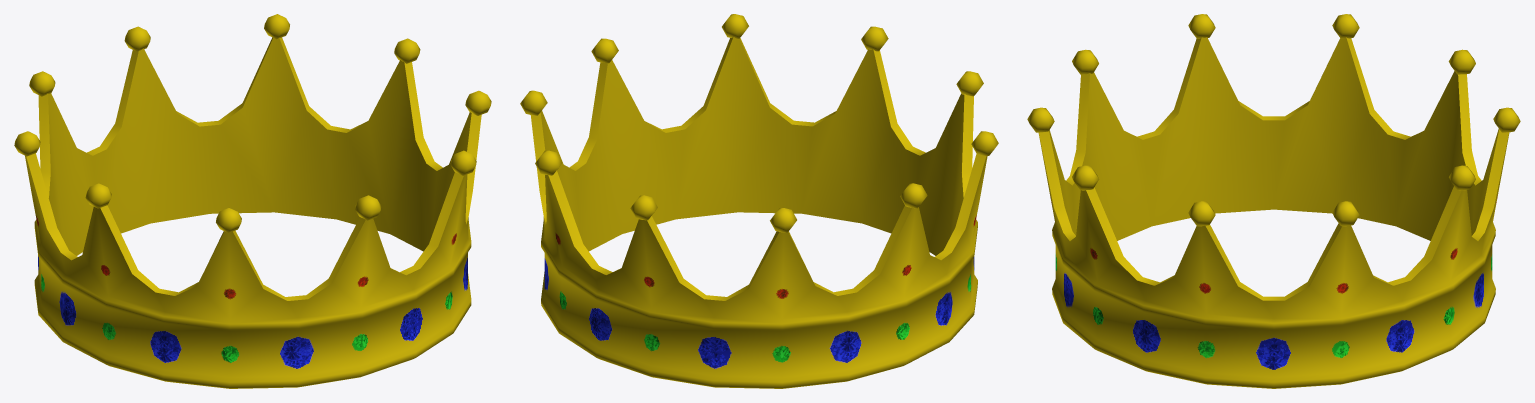
Rendered from crown_final.fbx.
The picture shows the model from 3 angles, left to right: view 1: azimuth 30°, elevation 25°; view 2: azimuth 150°, elevation 25°; view 3: azimuth 270°, elevation 25°; orthographic projection.
Visible parts, largest first — view 1: Base_low; view 2: Base_low; view 3: Base_low.
Part boxes in pixels (left/top/right/bottom): Base_low: left=14, top=14, right=491, bottom=388; Base_low: left=520, top=14, right=998, bottom=388; Base_low: left=1027, top=14, right=1520, bottom=388.
Size of the model in its own units: 215 by 95.77 by 226.
